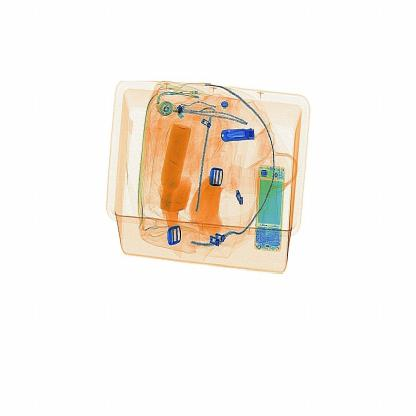knife: (214, 116, 263, 154)
